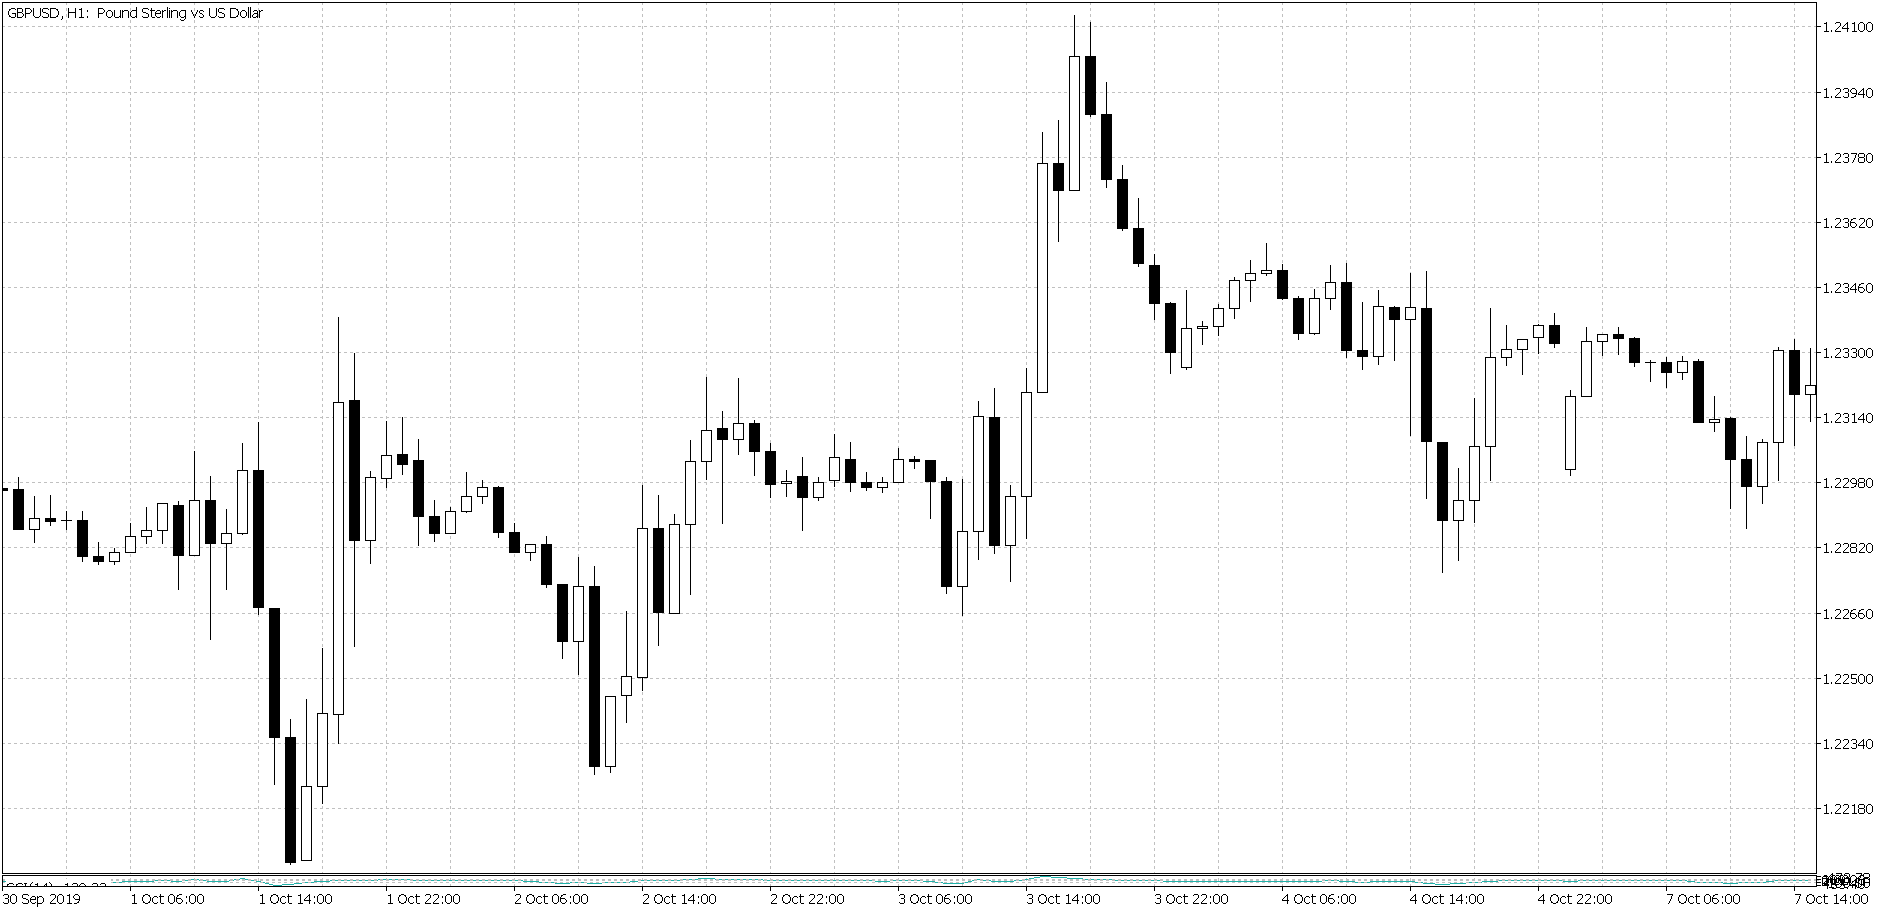3blackcrows: (251, 448, 297, 868), (1082, 14, 1132, 261)
eveningDojiStar: (891, 452, 939, 527)
